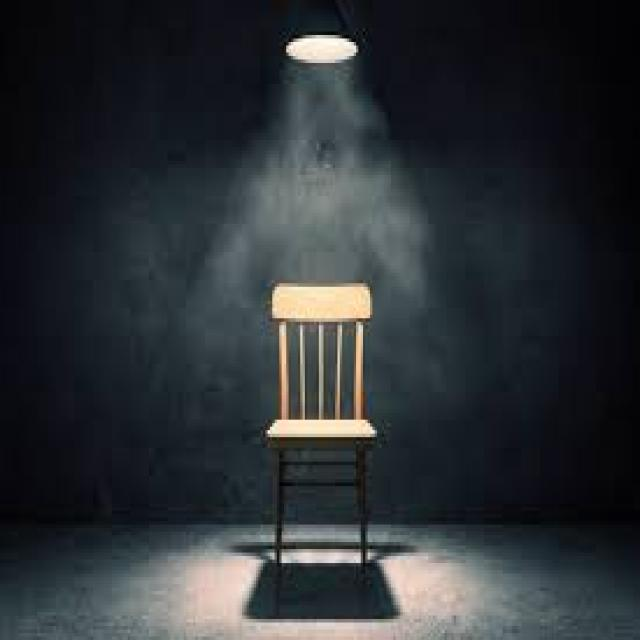chair: (263, 273, 381, 618)
